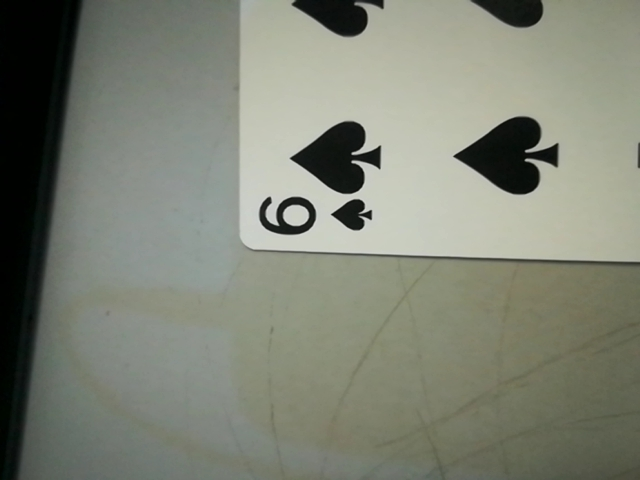ht 6: (243, 178, 388, 250)
